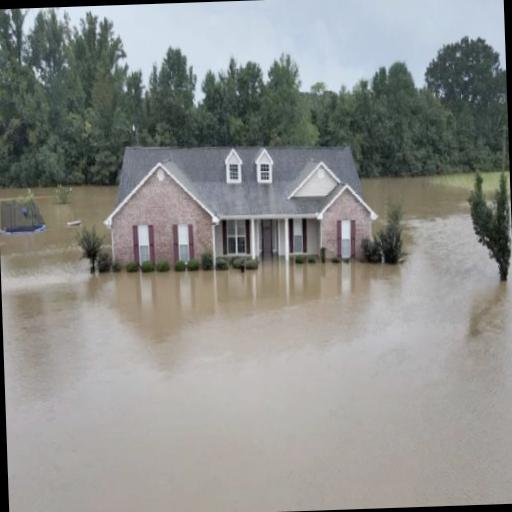flood: (0, 176, 512, 512)
house: (70, 136, 404, 288)
